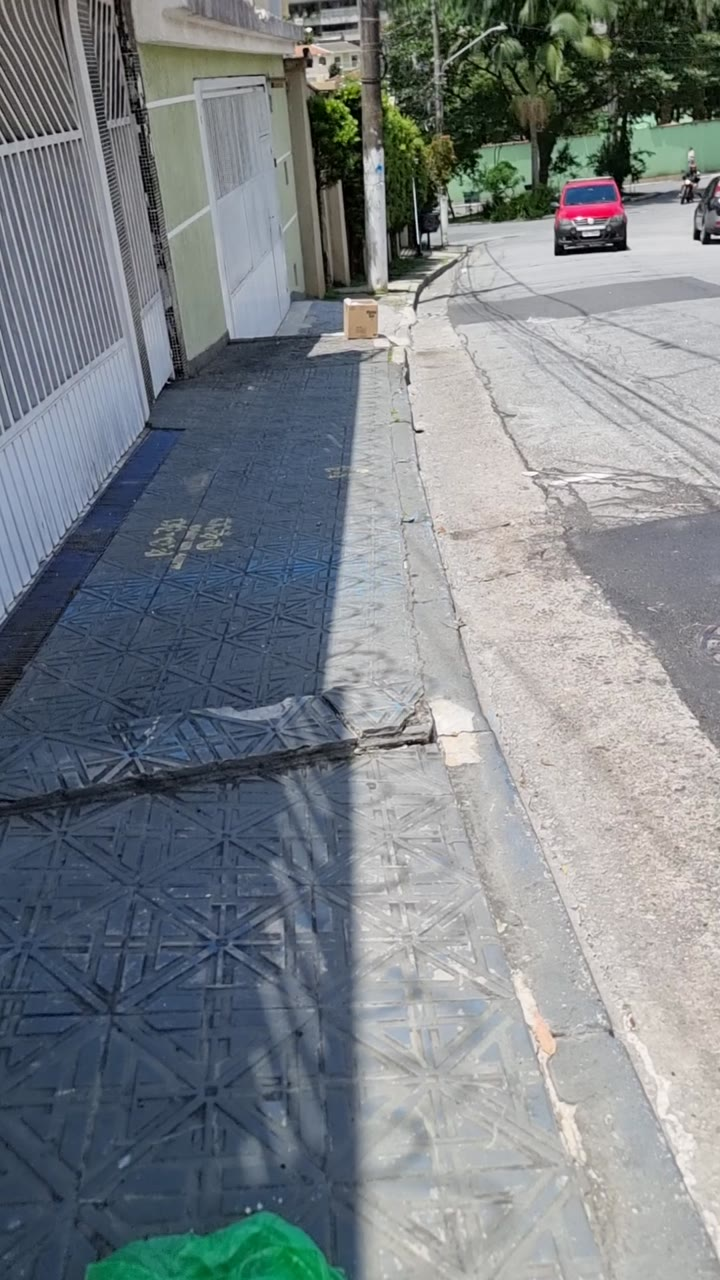desnivel: (0, 678, 446, 781)
obstaculo: (130, 1203, 346, 1280)
